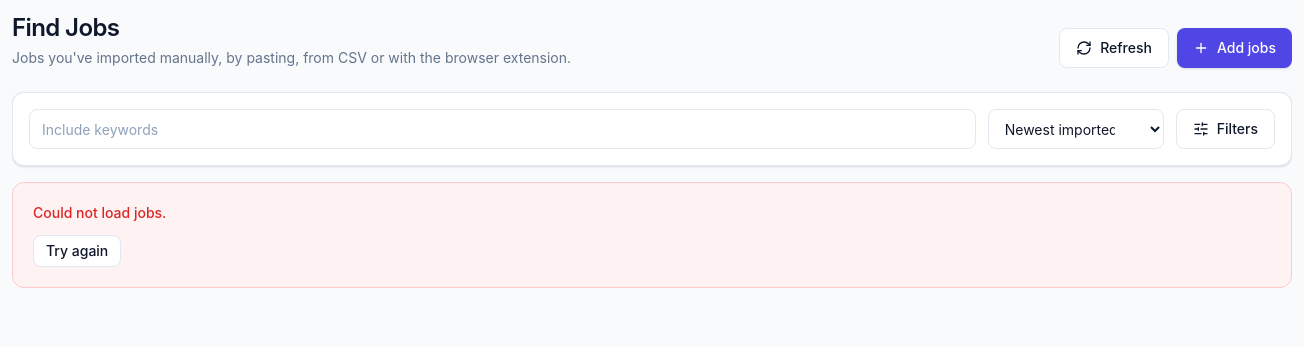
Scenario: job feed › shows an error state with retry
The image size is (1304, 346).
Expected: the text "Could not load jobs." is shown, [33,204,166,221]
Click the button "Try again". click: {"x": 77, "y": 251}
box: [33,235,121,267]
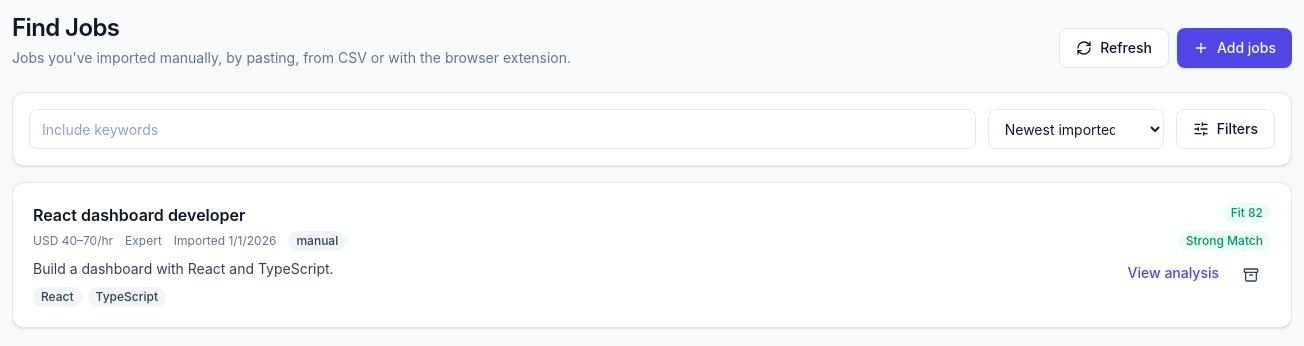
Expected: the link "React dashboard developer" is shown, [33,205,245,225]
